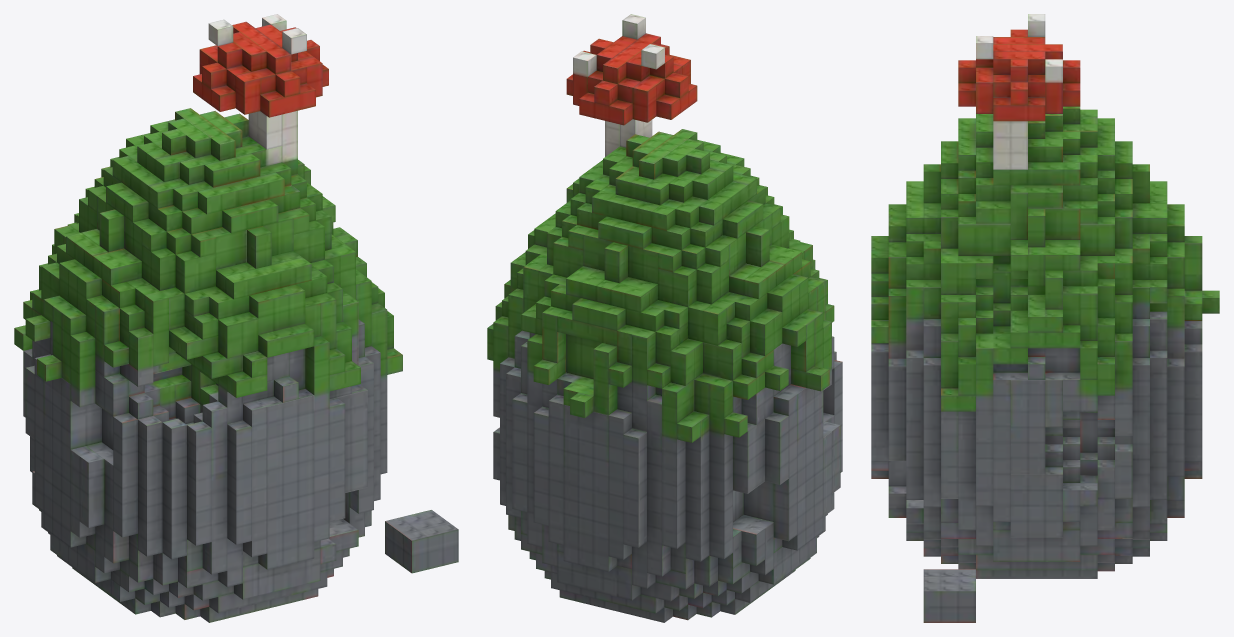
The model's file is mossy-rock.glb.
3 renders of one model, left to right at view 1: azimuth 30°, elevation 25°; view 2: azimuth 150°, elevation 25°; view 3: azimuth 270°, elevation 25°, orthographic. The views are drawn at different scales.
Visible parts, largest first — view 1: Body; view 2: Body; view 3: Body.
Boxes of the visible parts, x1,y1,x2,y2 form: Body: (14, 14, 458, 622); Body: (487, 14, 842, 622); Body: (871, 14, 1219, 622).
Size of the model in its own units: 3.45 by 4.95 by 3.
Materials: 1 (1 with a texture image).
